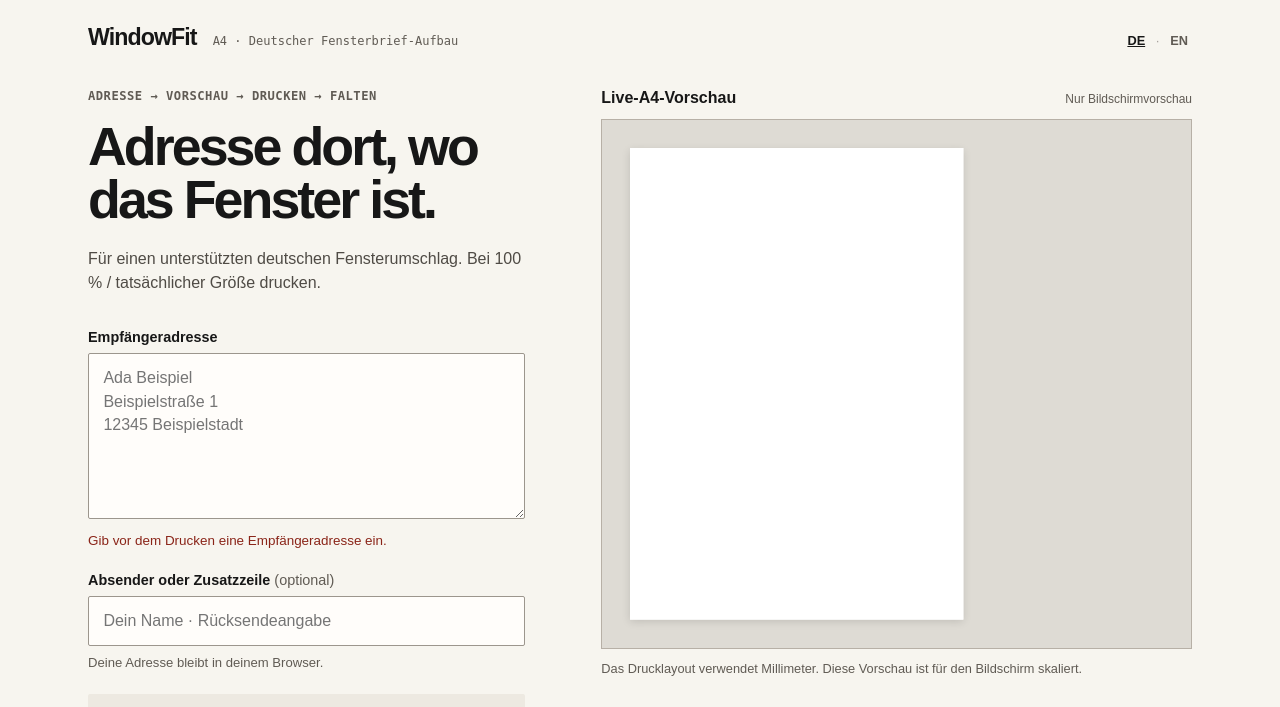
Scenario: WindowFit V0.1 protected baseline & V0.2 extensions › defaults to German UI and allows switching to English
Expected: the heading "Adresse dort, wo das Fenster ist." is shown, [88,120,524,225]
Expected: the text box labelled "Empfängeradresse" is shown, [88,352,524,519]
Step 1. Click the button "EN" → point(1179, 40), box [1166,31,1192,50]
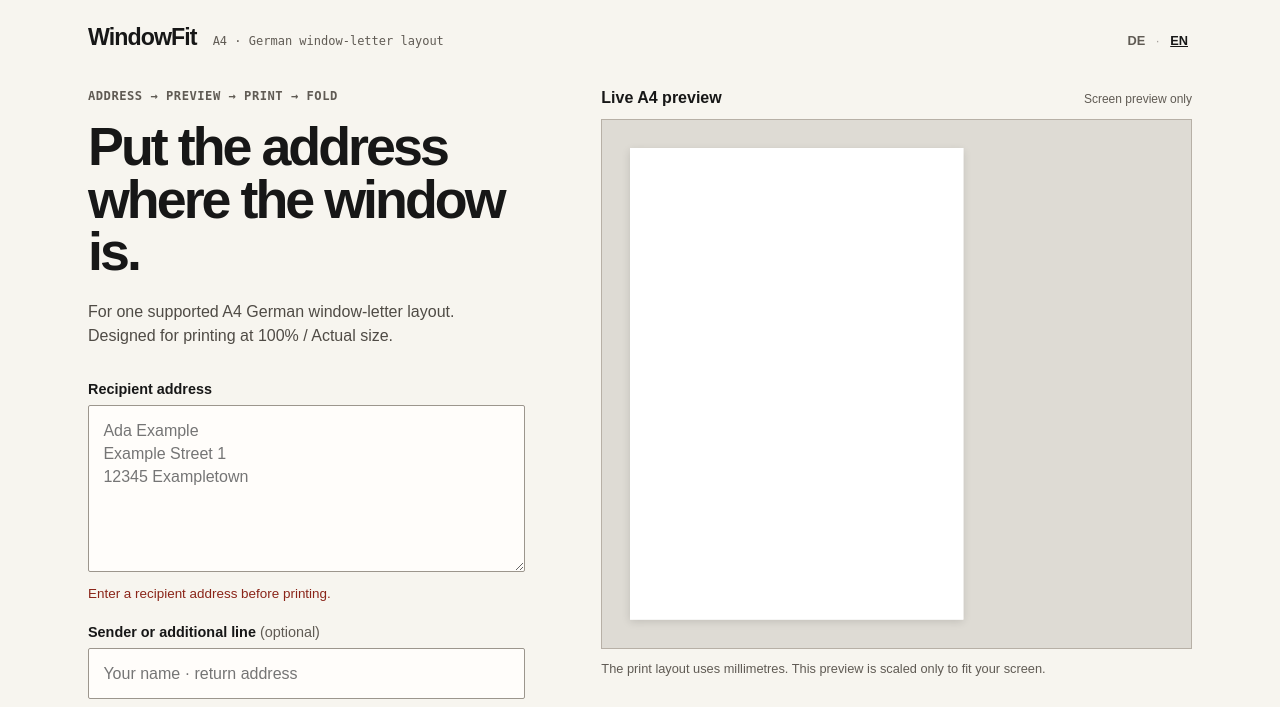
Expected: the text box labelled "Recipient address" is shown, [88,405,524,572]
Now the heading "Put the address where the window is." is shown, box [88,120,524,278]
Step 2. Click the button "DE" → point(1136, 40), box [1123,31,1149,50]
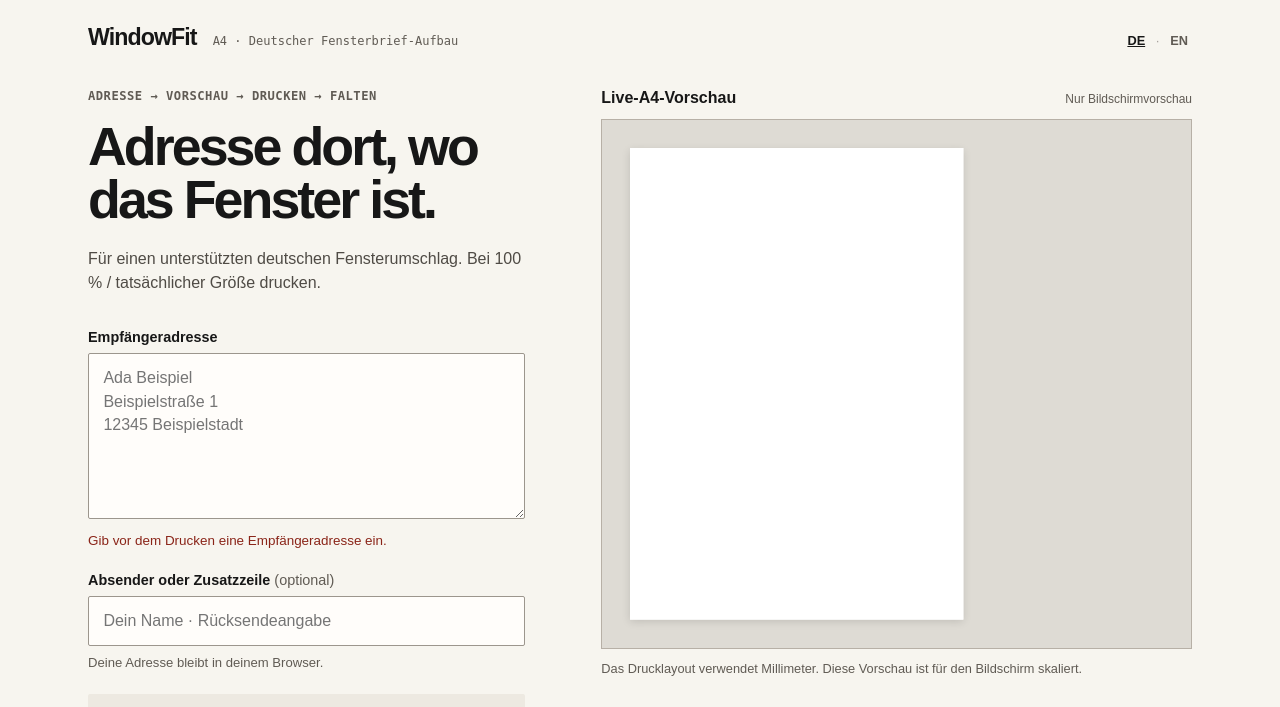
Now the heading "Adresse dort, wo das Fenster ist." is shown, box [88,120,524,225]
